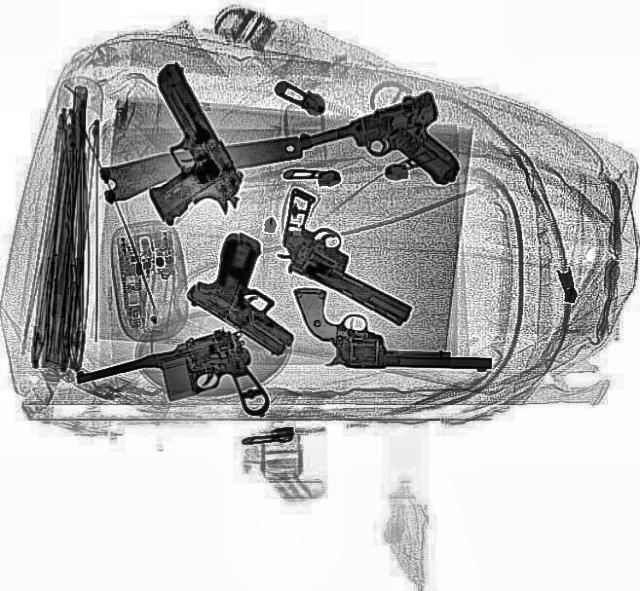Gun: (90, 58, 256, 234), (244, 186, 444, 332), (70, 320, 272, 452), (293, 89, 469, 219), (176, 225, 337, 357), (292, 286, 493, 372)
